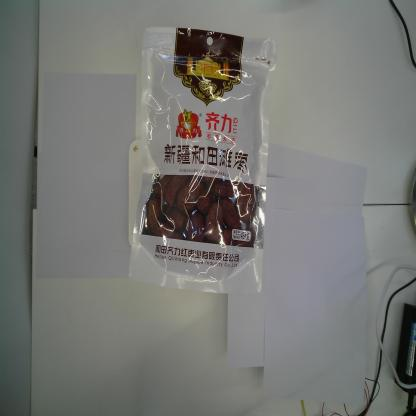Dried Food: (125, 24, 279, 297)
